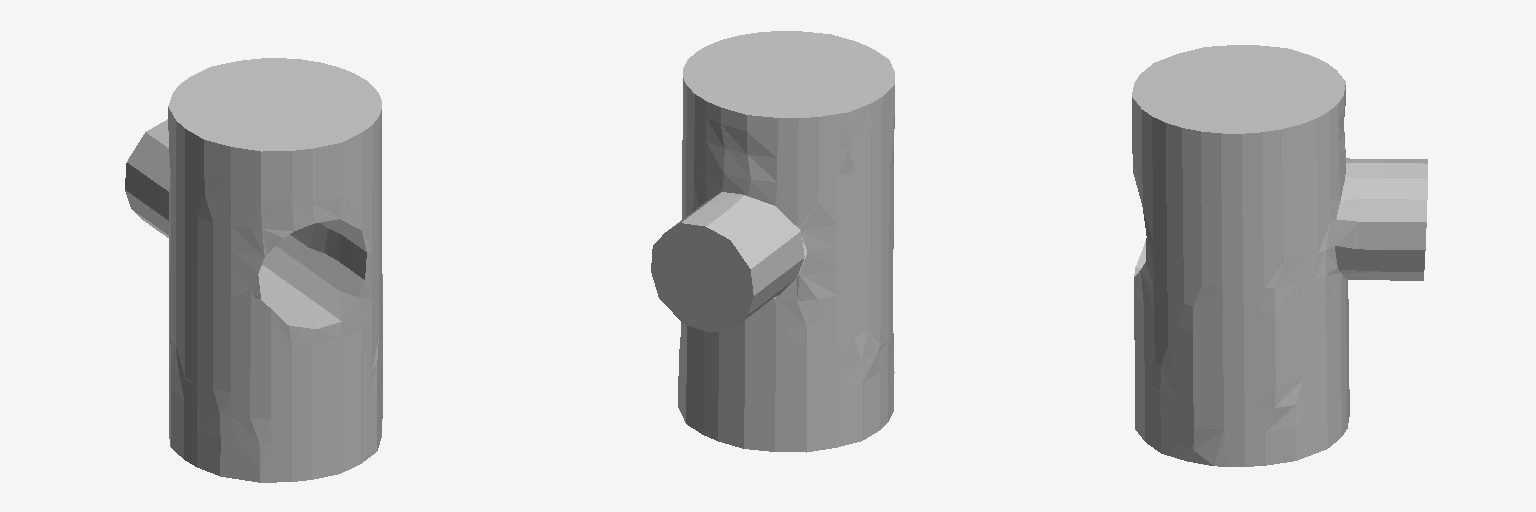
The model's file is two_cylinder.obj.
The picture shows the model from 3 angles: view 1: azimuth 30°, elevation 25°; view 2: azimuth 150°, elevation 25°; view 3: azimuth 270°, elevation 25°; orthographic projection.
Visible parts, largest first — view 1: Cylinder.001; view 2: Cylinder.001; view 3: Cylinder.001.
Boxes of the visible parts, box(x1,y1,x2,y2) form: Cylinder.001: box(125, 58, 382, 482); Cylinder.001: box(651, 31, 894, 452); Cylinder.001: box(1132, 45, 1427, 466).
Bounding box in the file's own units: 1.5 × 2.6 × 2.08.